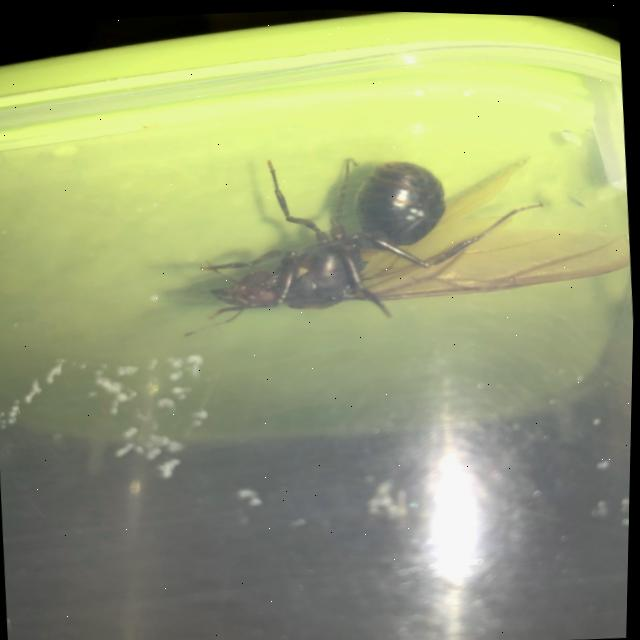Alive-Female-Alate: (174, 130, 637, 347)
